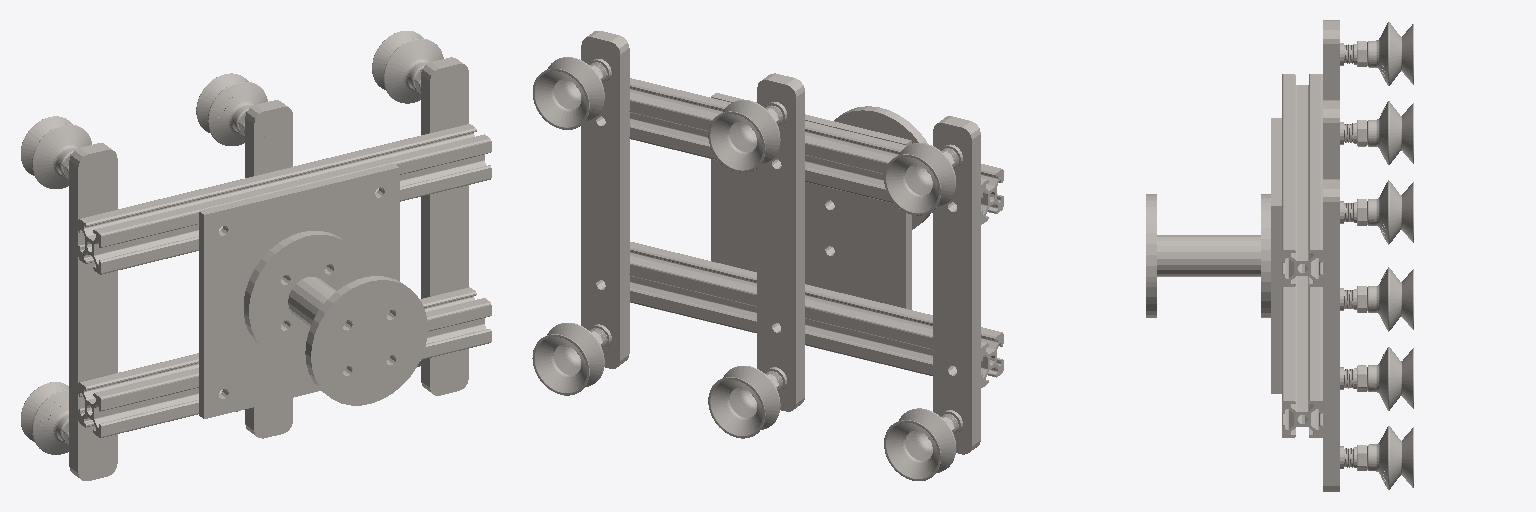
The robot description file, URDF, robot "end_effector":
<?xml version="1.0" encoding="utf-8"?>
<!-- This URDF was automatically created by SolidWorks to URDF Exporter! Originally created by [author] ([email redacted]) 
     Commit Version: 1.5.1-0-g916b5db  Build Version: 1.5.7152.31018
     For more information, please see http://wiki.ros.org/sw_urdf_exporter -->
<robot
  name="end_effector">
  <link
    name="end_effect_link">
    <inertial>
      <origin
        xyz="-1.46766330541734E-09 7.48579658423296E-09 -0.0837374125994401"
        rpy="0 0 0" />
      <mass
        value="0.540352071536298" />
      <inertia
        ixx="0.000266355169830807"
        ixy="9.20748959681911E-09"
        ixz="5.66340681426426E-12"
        iyy="0.000740715725945027"
        iyz="-5.7854568475761E-12"
        izz="0.000878889678992903" />
    </inertial>
    <visual>
      <origin
        xyz="0 0 0"
        rpy="0 0 0" />
      <geometry>
        <mesh
          filename="package://end_effector/meshes/end_effect_link.STL" />
      </geometry>
      <material
        name="">
        <color
          rgba="0.776470588235294 0.756862745098039 0.737254901960784 1" />
      </material>
    </visual>
    <collision>
      <origin
        xyz="0 0 0"
        rpy="0 0 0" />
      <geometry>
        <mesh
          filename="package://end_effector/meshes/end_effect_link.STL" />
      </geometry>
    </collision>
  </link>
</robot>

--- Facts derived from the render (not from the file) ---
Views: 3 orthographic renders of the robot side by side, from view 1: azimuth 30°, elevation 25°; view 2: azimuth 150°, elevation 25°; view 3: azimuth 270°, elevation 25°.
Model end_effector with 1 links and 0 joints (none), rooted at end_effect_link, posed all joints at 0.
Links seen in each view (by area): view 1: end_effect_link; view 2: end_effect_link; view 3: end_effect_link.
Boxes of the visible links, x1=… form: end_effect_link: x1=21, y1=31, x2=491, y2=480; end_effect_link: x1=532, y1=31, x2=1003, y2=480; end_effect_link: x1=1146, y1=20, x2=1413, y2=491.
Bounding box of the posed robot: 0.211 × 0.1285 × 0.161 m (x, y, z).
1 mesh visuals loaded from 1 distinct referenced files (1 binary STL).